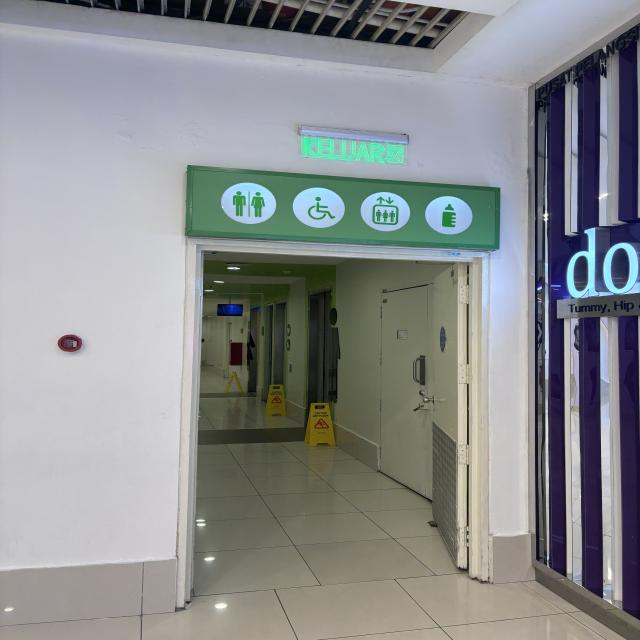door: (179, 240, 495, 604)
lift_icon: (364, 195, 406, 230)
toilet_icon: (295, 190, 343, 227), (228, 187, 271, 224)
